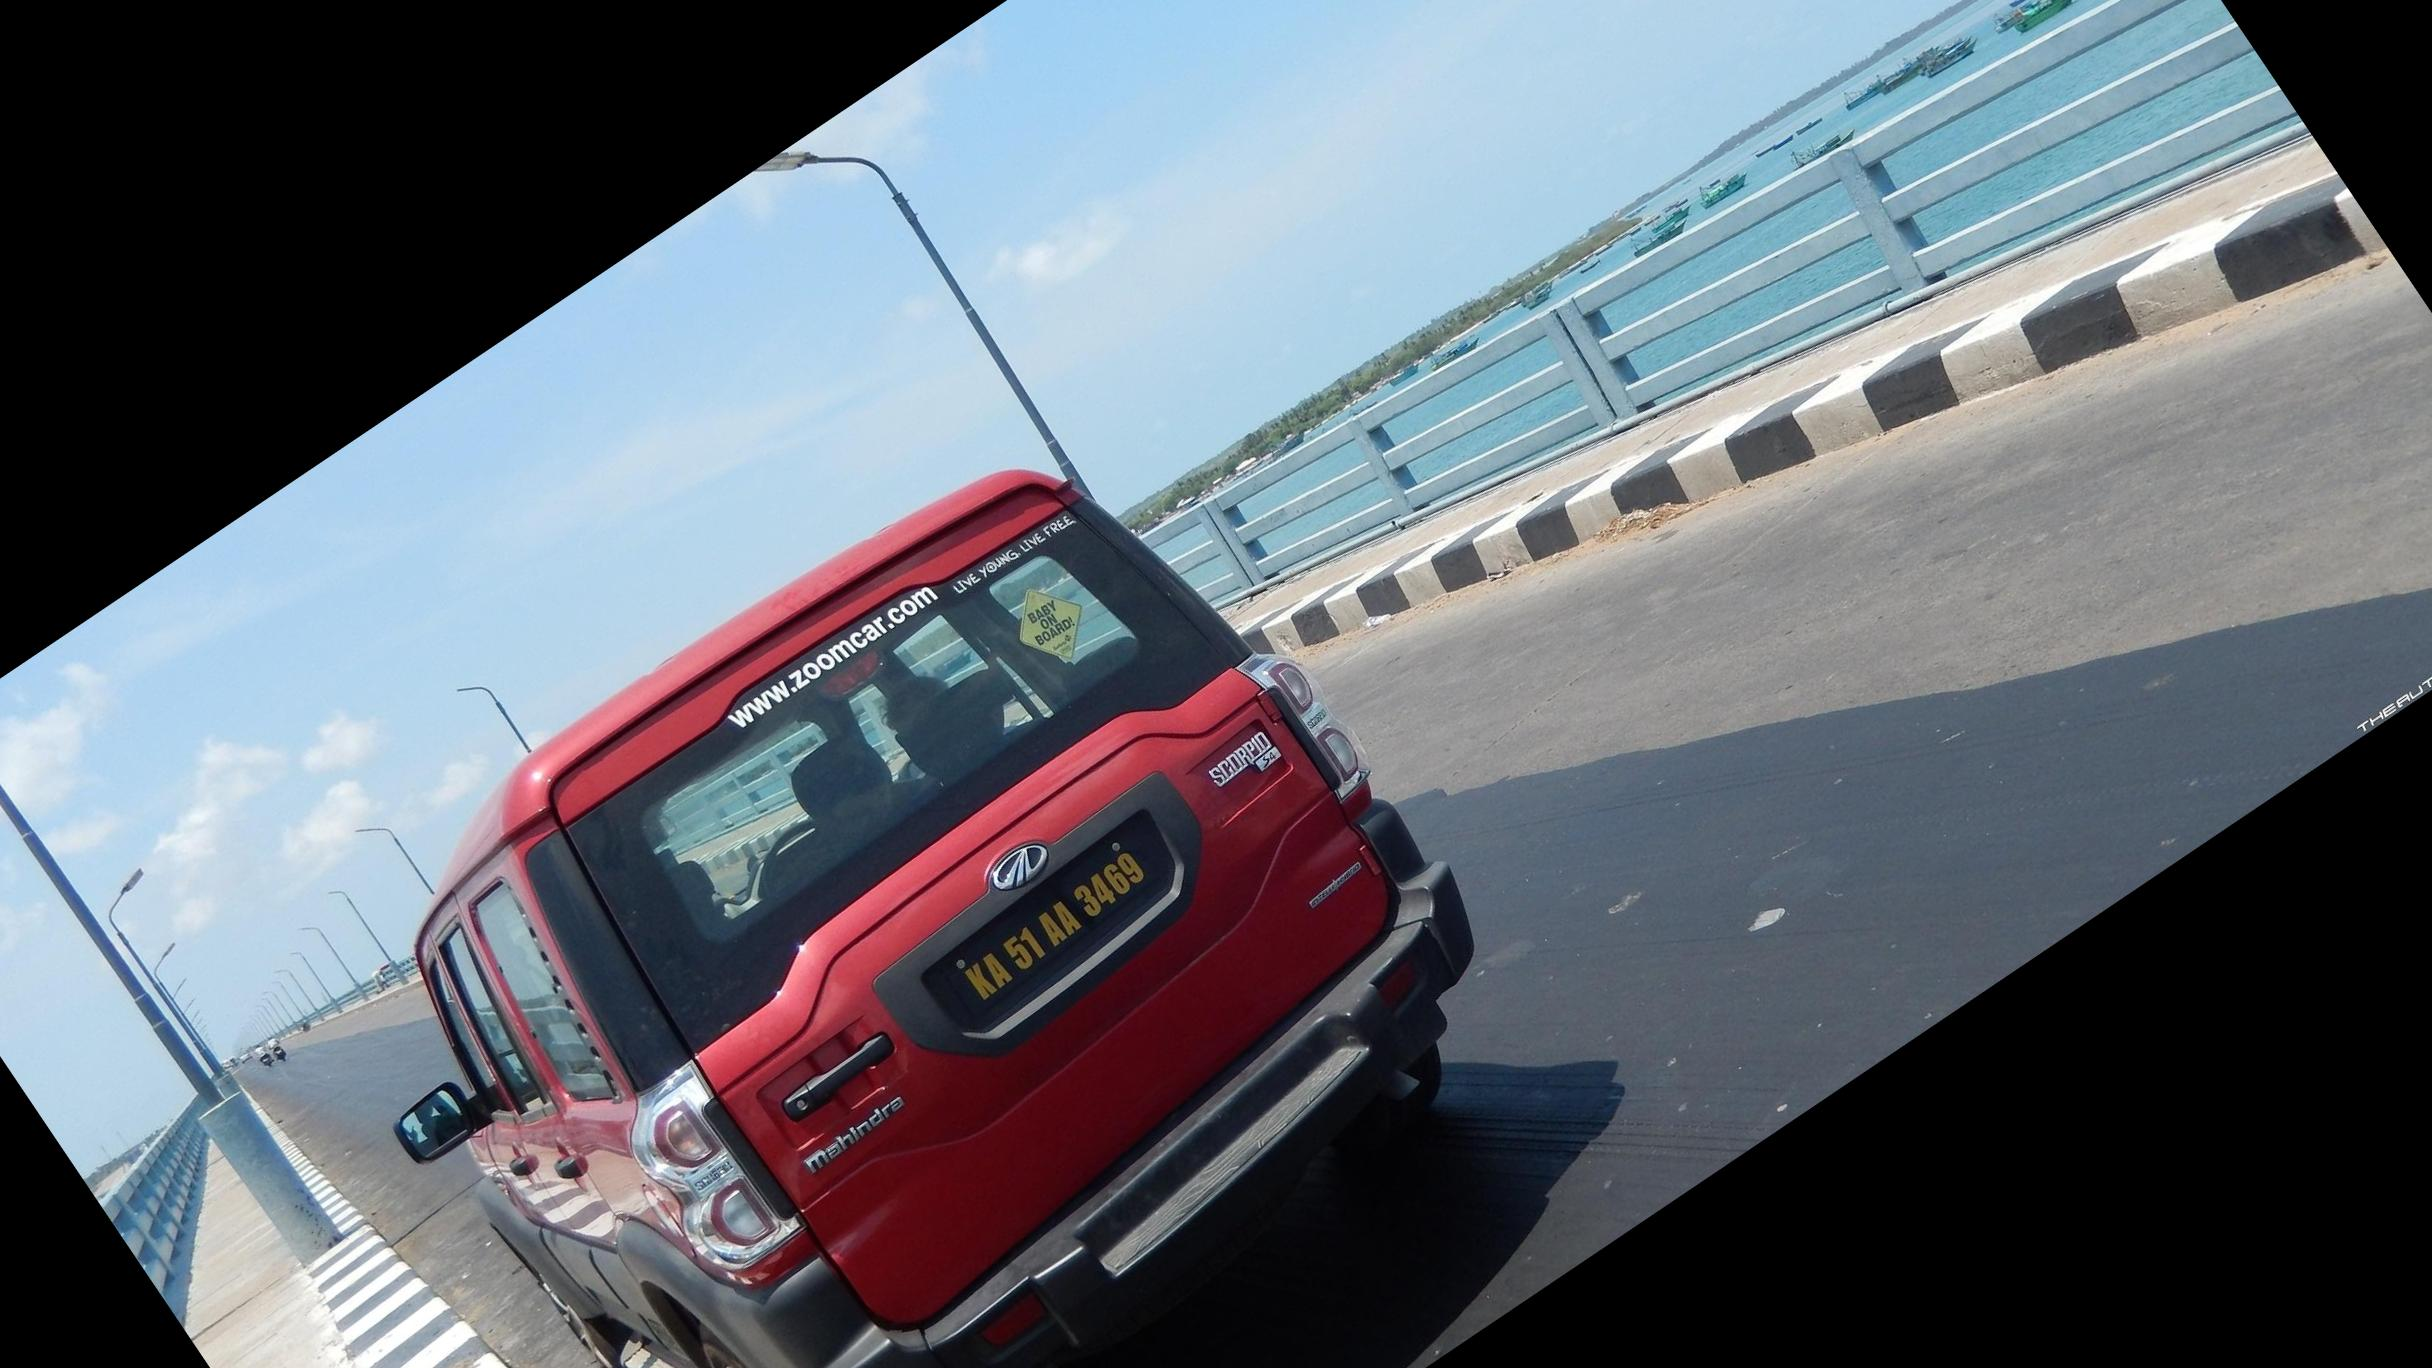plate: (868, 771, 1226, 1066)
